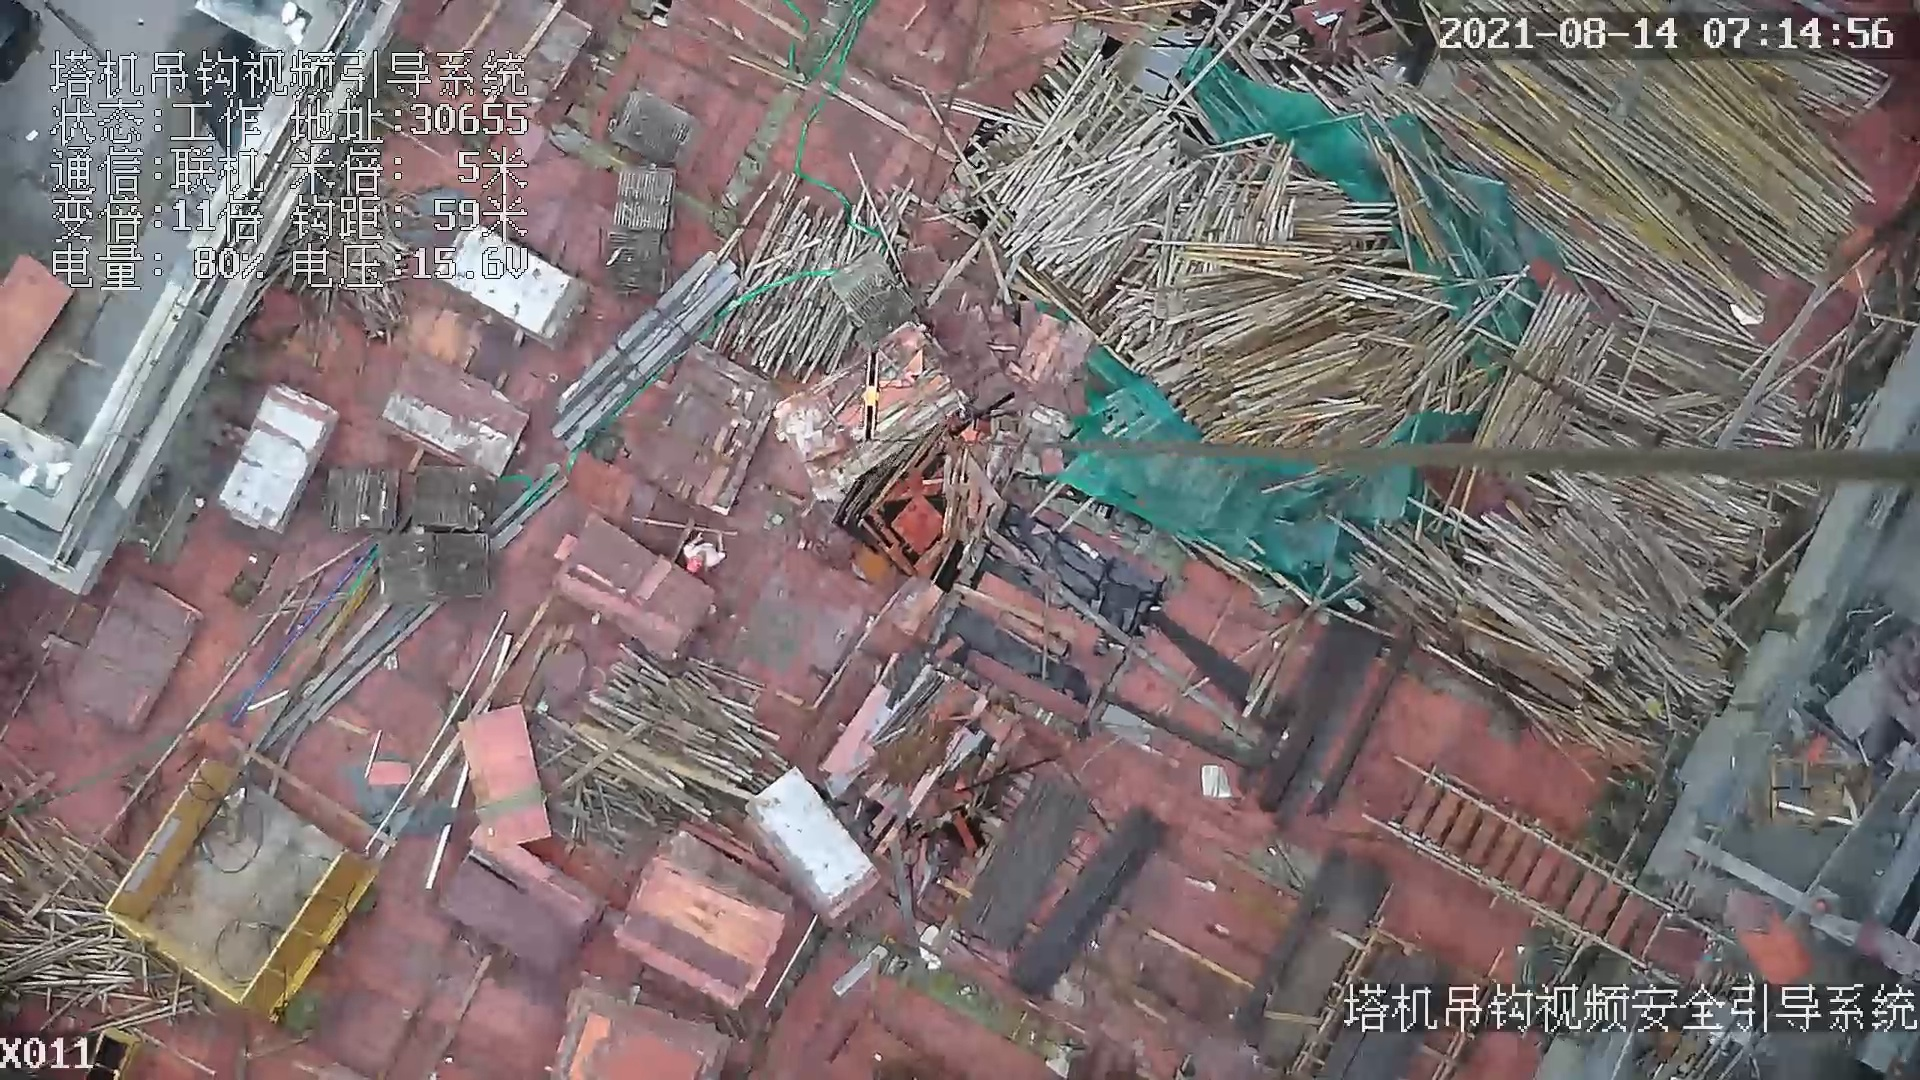helmet: (681, 556, 708, 574)
hook: (859, 344, 886, 449)
person: (673, 530, 730, 578)
